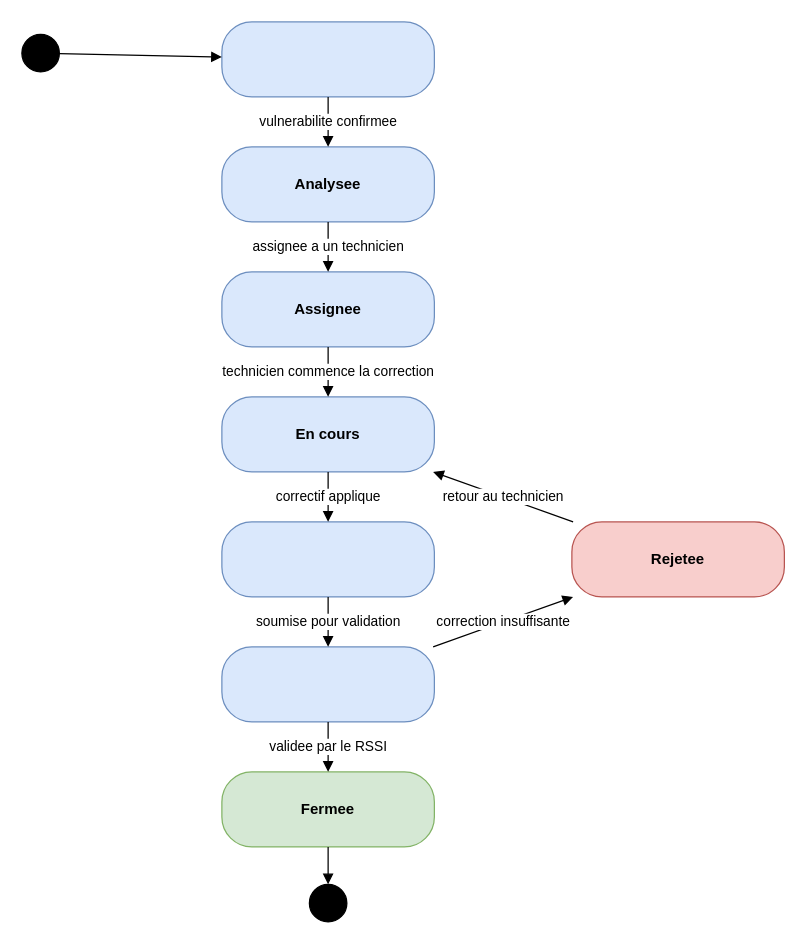
The diagram is 806 pixels wide and 944 high, and some of its shapes have lost their labels. The box of each missing label's shape, as (x1, y1, x2, y2) in pixels:
Corrigee: (221, 521, 434, 597)
Nouvelle: (221, 21, 434, 97)
Validation: (221, 646, 434, 722)
